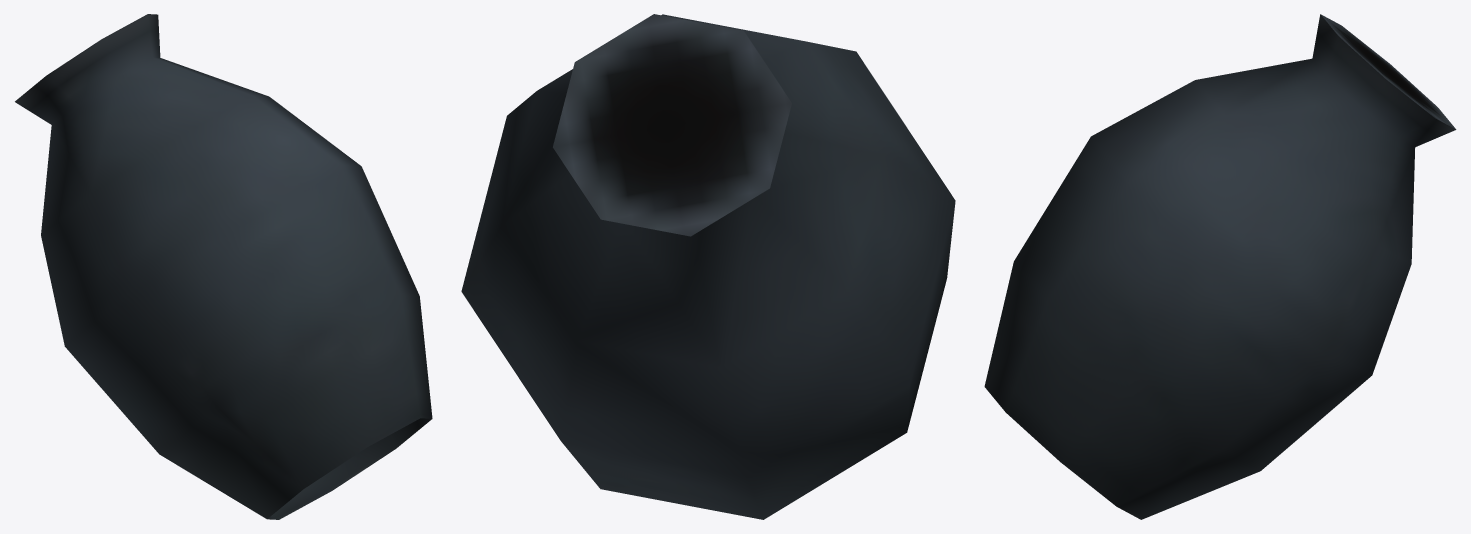
The model's file is Area06_31.fbx.
3 renders of one model, left to right at view 1: azimuth 30°, elevation 25°; view 2: azimuth 150°, elevation 25°; view 3: azimuth 270°, elevation 25°, orthographic. The views are drawn at different scales.
Parts seen in each view (by area): view 1: Area06_31; view 2: Area06_31; view 3: Area06_31.
Part boxes in pixels (x1=…): Area06_31: x1=15, y1=14, x2=432, y2=519; Area06_31: x1=461, y1=14, x2=955, y2=519; Area06_31: x1=984, y1=14, x2=1456, y2=519.
Size of the model in its own units: 42.38 by 57.61 by 55.32.
